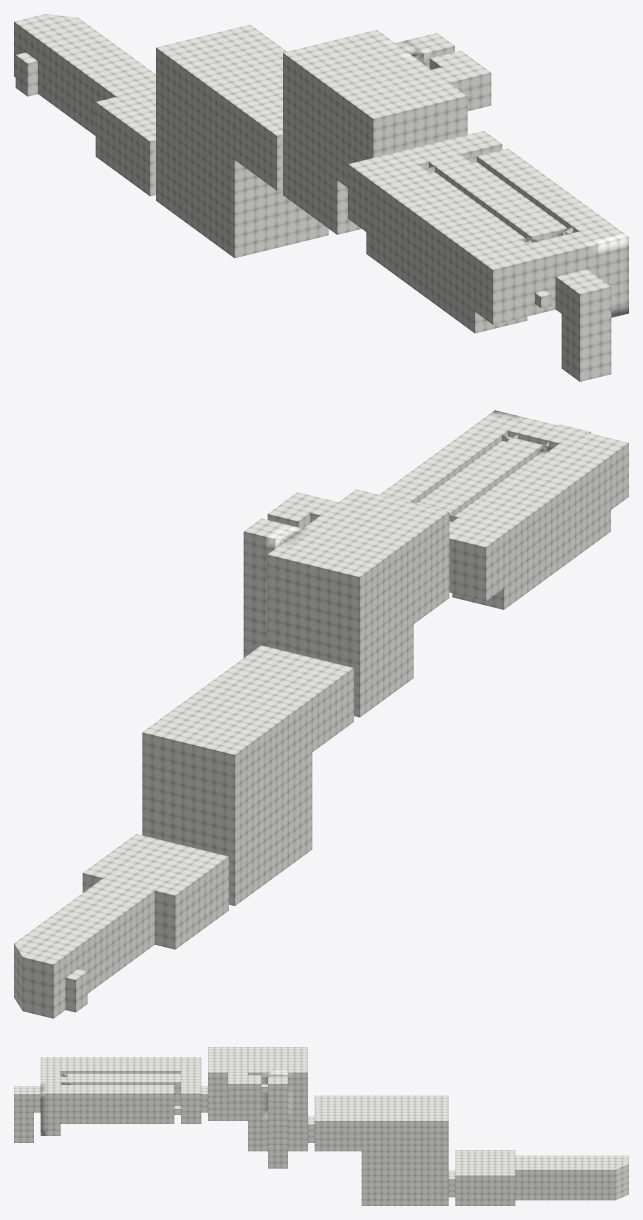
File: tutorial_exterior.fbx
3 views of the same model, one above another, from view 1: azimuth 30°, elevation 25°; view 2: azimuth 150°, elevation 25°; view 3: azimuth 270°, elevation 25° (orthographic). The views are drawn at different scales.
Visible parts, largest first — view 1: tutorial_exterior; view 2: tutorial_exterior; view 3: tutorial_exterior.
Part boxes in pixels (x1,y1,x2,y2): tutorial_exterior: (14,14,628,381); tutorial_exterior: (14,410,628,1018); tutorial_exterior: (14,1047,628,1205).
Bounding box in the file's own units: 92 × 16 × 22.
1 material, 1 textured.
